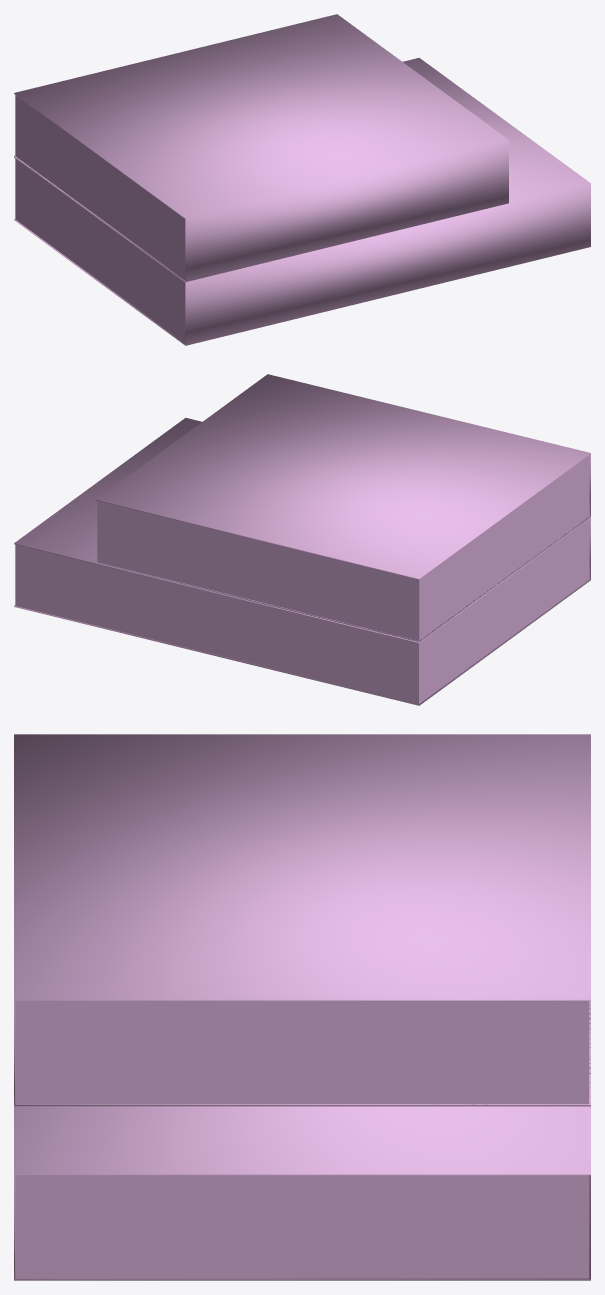
The model's file is Libros 3.fbx.
The picture shows the model from 3 angles, top to bottom: view 1: azimuth 30°, elevation 25°; view 2: azimuth 150°, elevation 25°; view 3: azimuth 270°, elevation 25°; orthographic projection. The views are drawn at different scales.
Visible parts, largest first — view 1: Books 3; view 2: Books 3; view 3: Books 3.
Boxes of the visible parts, x1,y1,x2,y2 form: Books 3: [14, 14, 590, 345]; Books 3: [14, 374, 590, 705]; Books 3: [14, 734, 590, 1280].
Bounding box in the file's own units: 30 × 9 × 22.
